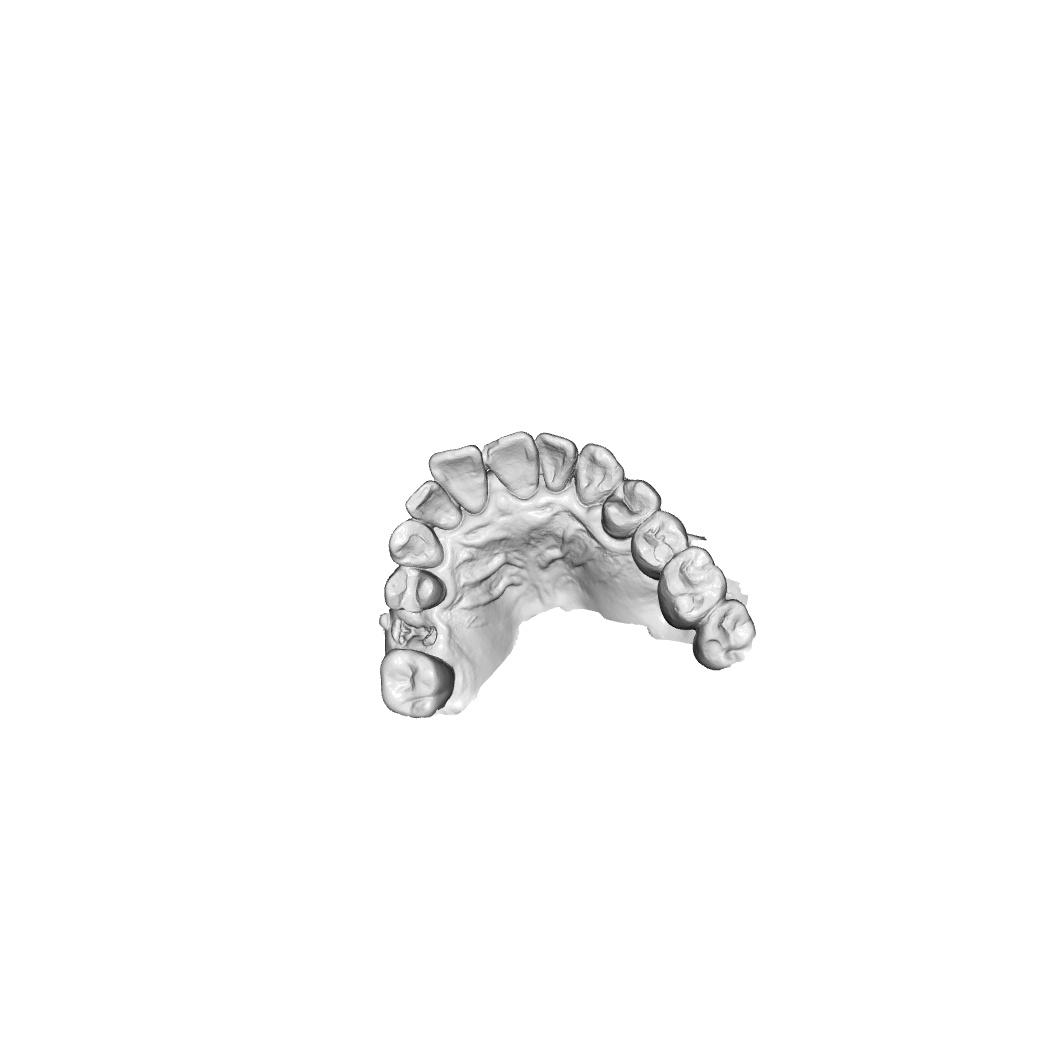canine: (573, 441, 626, 506), (389, 522, 447, 569)
incisor: (426, 443, 489, 514), (481, 429, 542, 501), (404, 478, 466, 531), (534, 429, 578, 494)
molar: (656, 543, 731, 632), (377, 647, 459, 721), (690, 596, 760, 673)
premolar: (628, 508, 692, 579), (600, 477, 665, 541), (382, 564, 448, 615)
